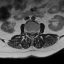CCS_stenosis: (31, 29, 33, 37)
LFS_normal: (35, 29, 37, 35)
LLS_normal: (33, 29, 35, 35)
RFS_normal: (27, 29, 29, 35)
RLS_normal: (29, 29, 31, 36)
